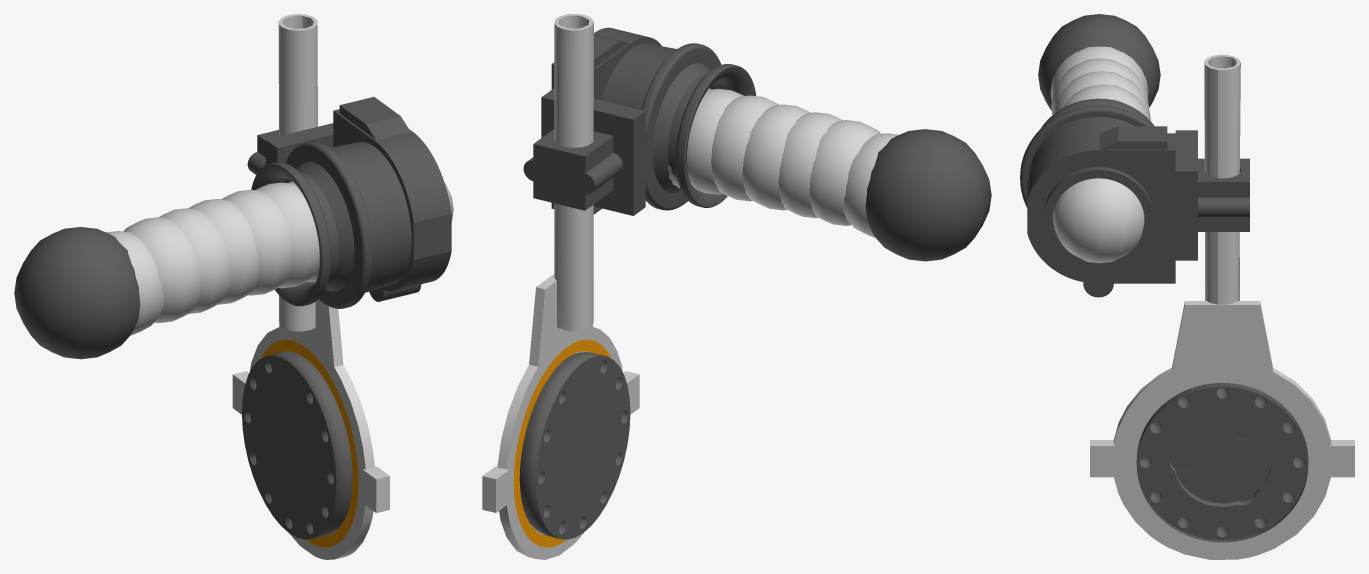
Rendered from link_6_aernnova.dae.
3 views of the same model, side by side, from view 1: azimuth 30°, elevation 25°; view 2: azimuth 150°, elevation 25°; view 3: azimuth 270°, elevation 25° (orthographic). The views are drawn at different scales.
Visible parts, largest first — view 1: KUKA KR 180 R3500 ultra K.004, link_6; view 2: KUKA KR 180 R3500 ultra K.004, link_6; view 3: KUKA KR 180 R3500 ultra K.004, link_6.
Part boxes in pixels (box(x1,y1,x2,y2)): KUKA KR 180 R3500 ultra K.004: box(14, 14, 453, 559); link_6: box(242, 352, 352, 539); KUKA KR 180 R3500 ultra K.004: box(482, 14, 991, 559); link_6: box(519, 352, 630, 539); KUKA KR 180 R3500 ultra K.004: box(1020, 14, 1354, 559); link_6: box(1137, 384, 1308, 540).
Bounding box in the file's own units: 0.3683 × 0.2731 × 0.4407.
